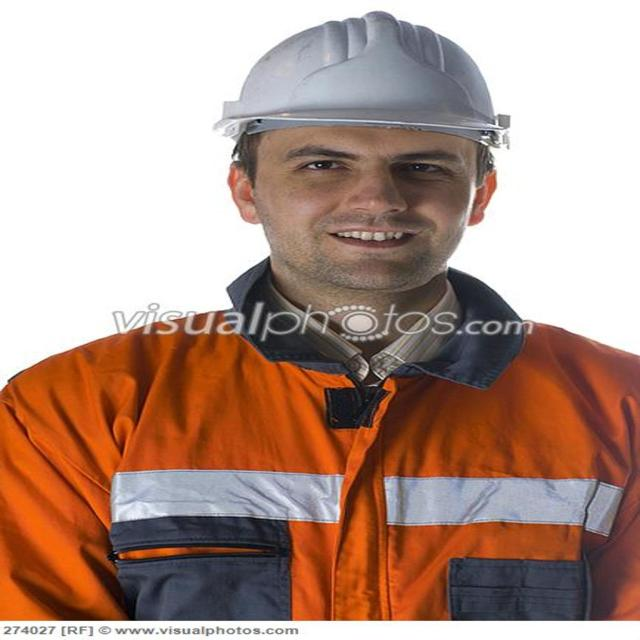Face: (231, 110, 509, 308)
